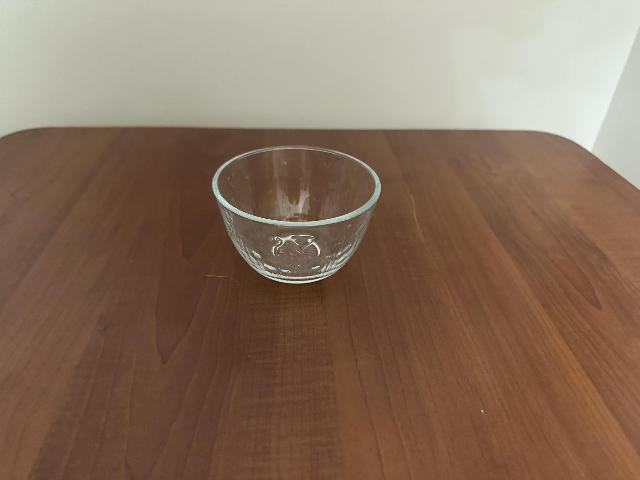Cam: (211, 142, 387, 285)
